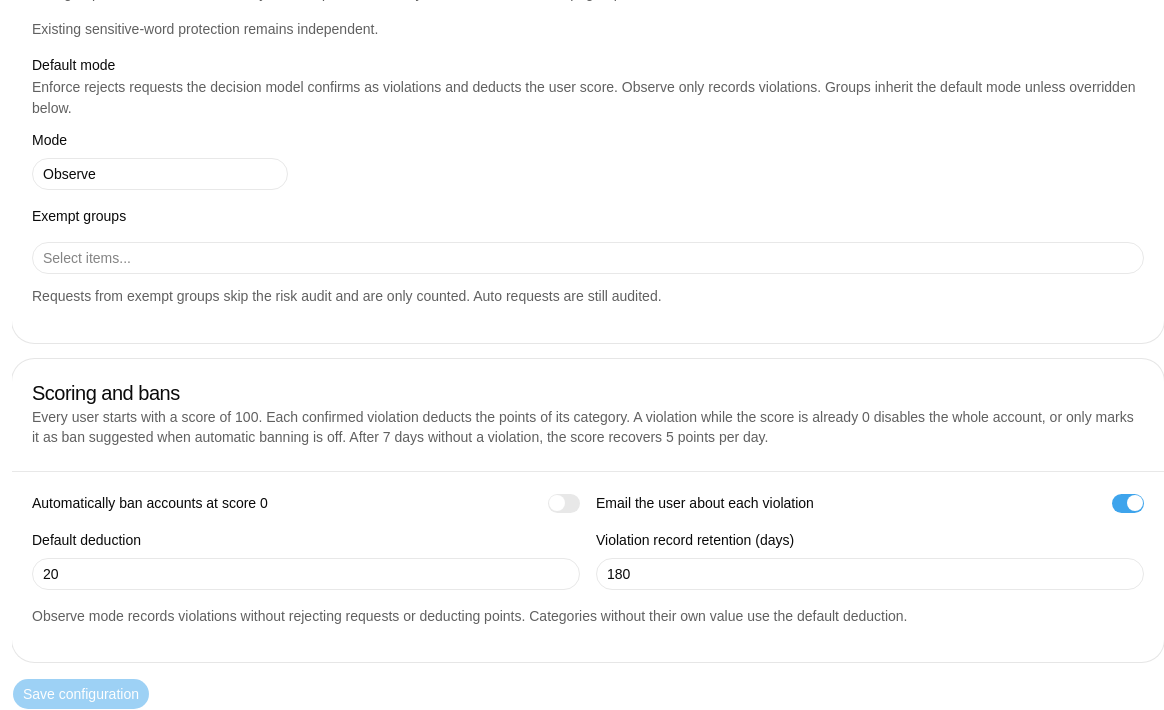
Scenario: blocks saving a deduction outside 1 to 100 points
(page scrolled)
Replace the text in the number field labelled "Default deduction" with "101" at (306, 574), box [32,558,580,590]
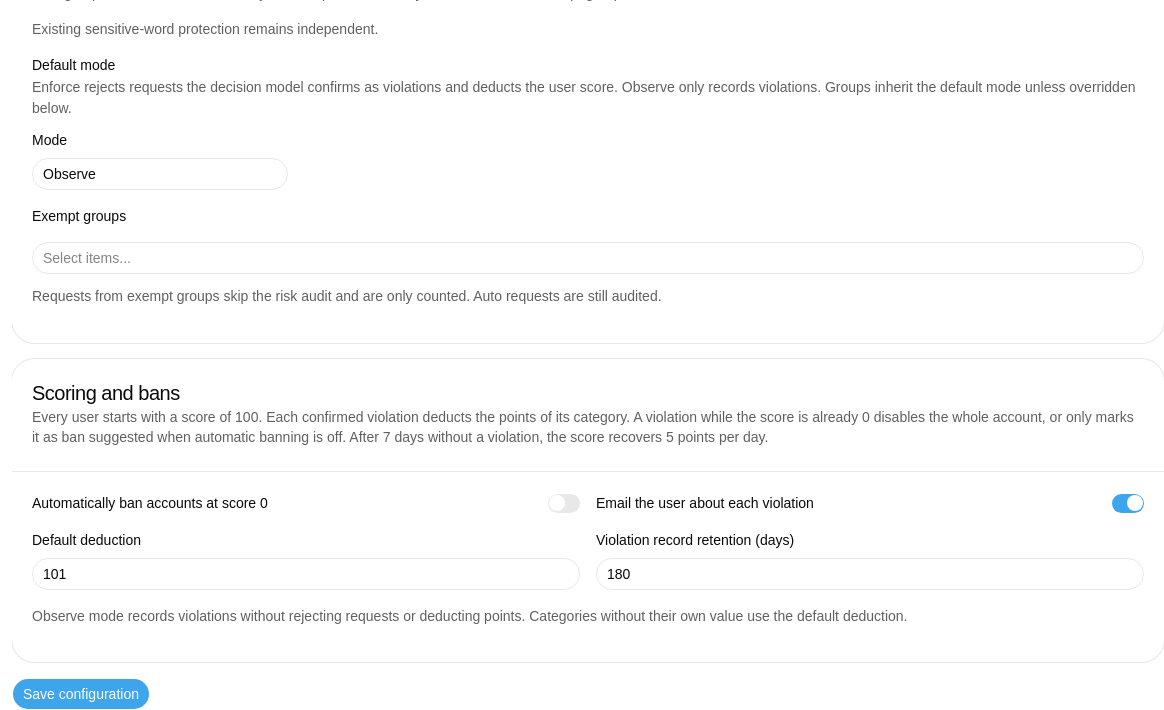
Click the button "Save configuration".
click(81, 694)  # box [12,678,150,709]
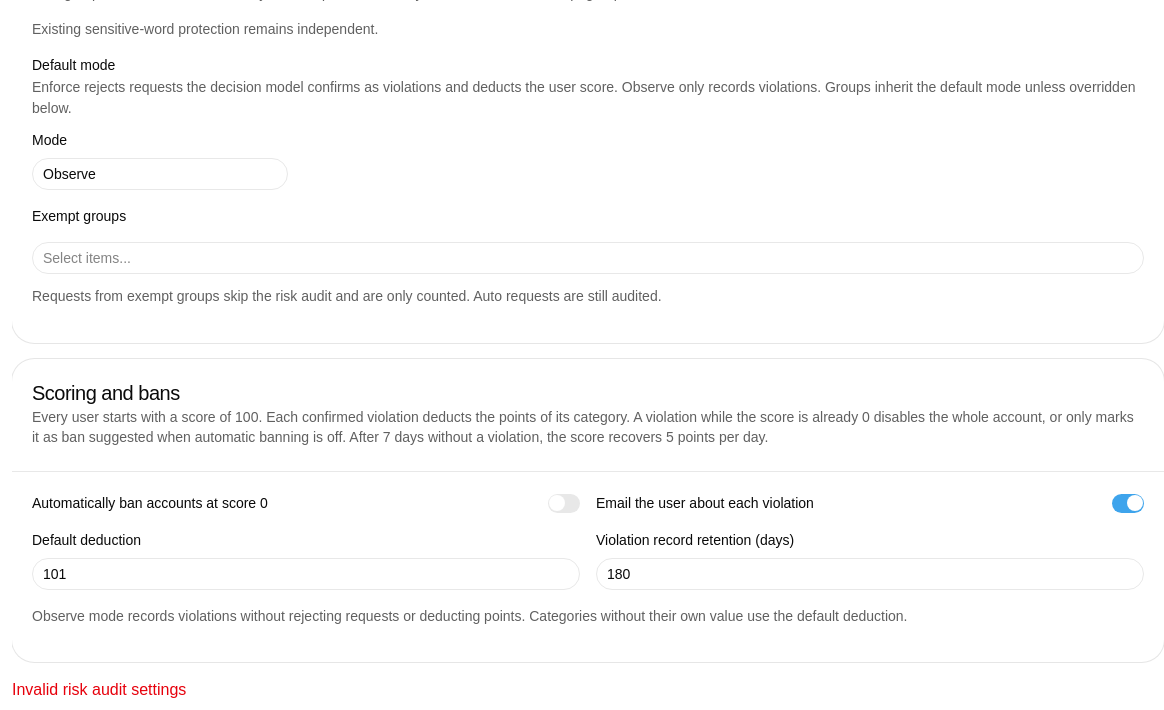
Expected: the text "Invalid risk audit settings" is shown, [12,681,186,698]
